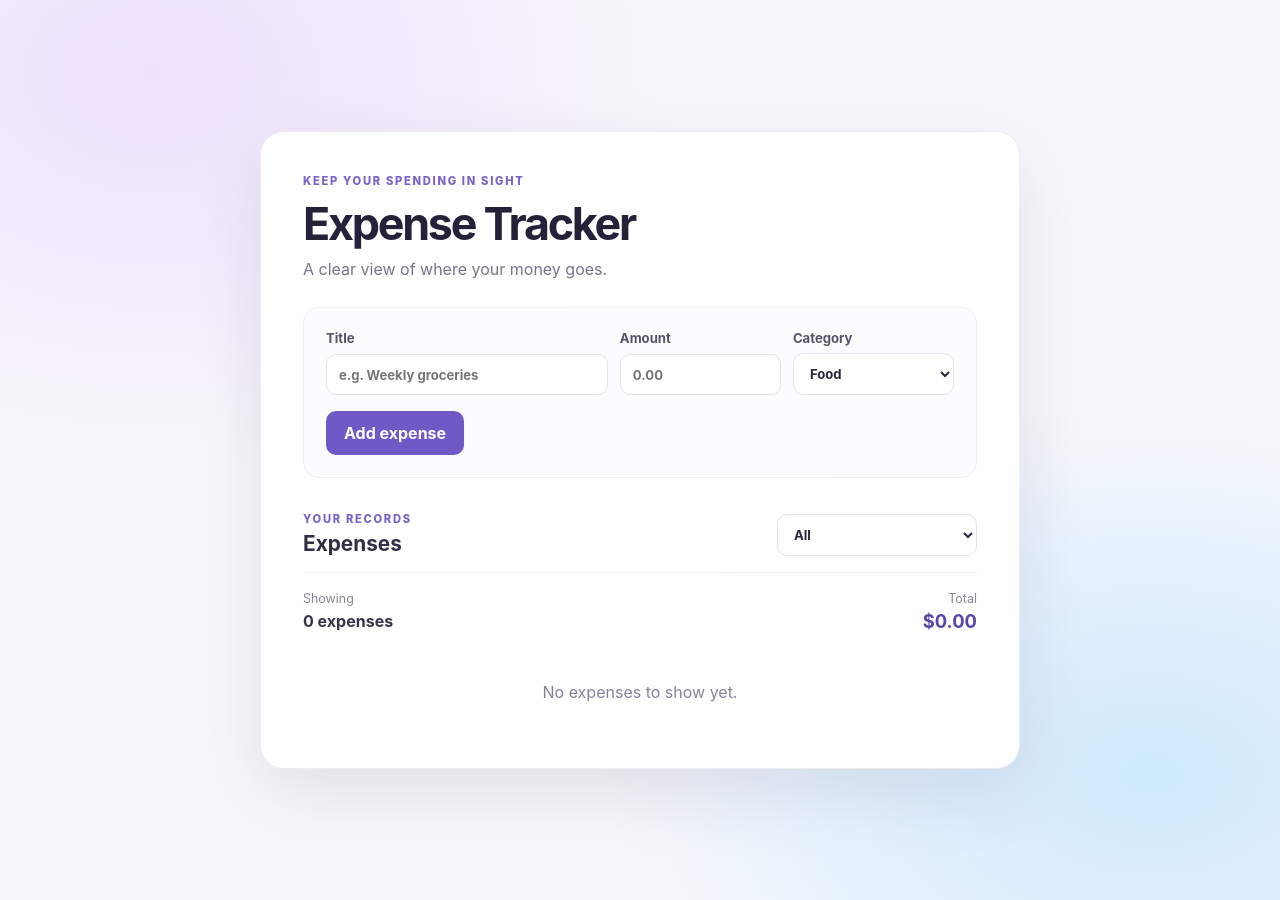
Test: rejects invalid amount not-a-number
Type "Invalid expense" into the field labelled "Title" at coordinates (467, 374), box [326,354,608,395]
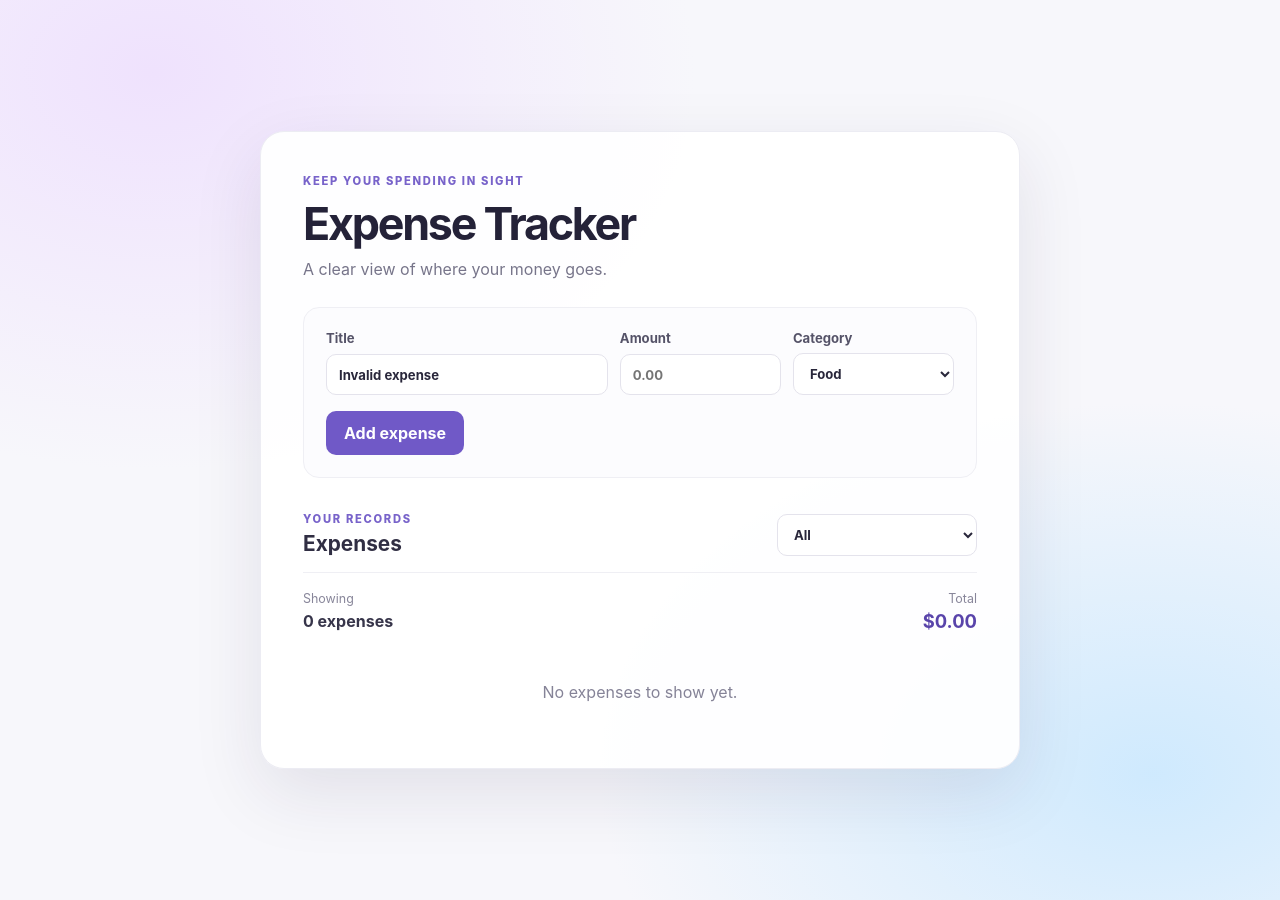
Type "not-a-number" into the field labelled "Amount" at coordinates (700, 374), box [620,354,781,395]
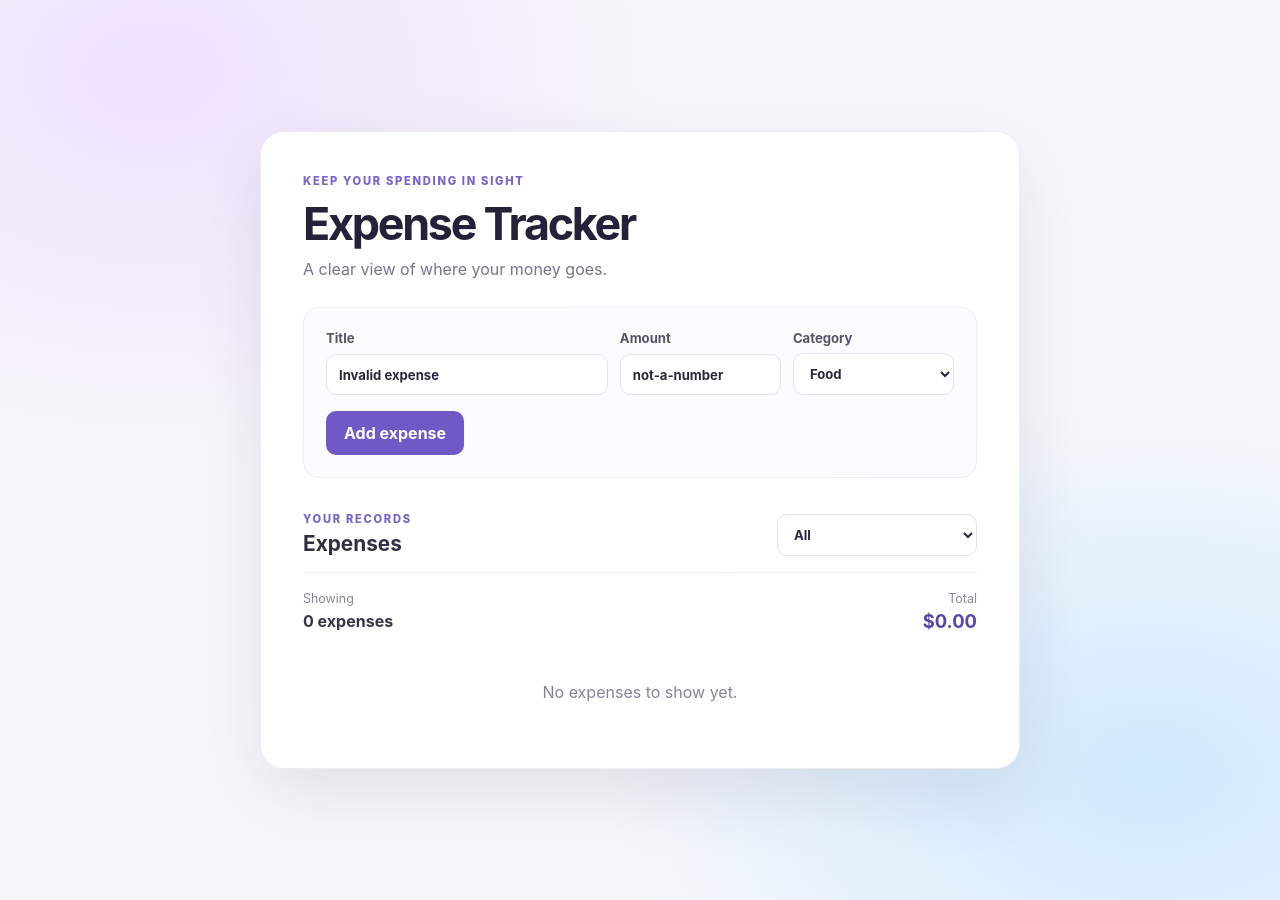
Select "Food" in the dropdown labelled "Category" at coordinates (873, 374), box [793,353,954,395]
Click the button "Add expense" at coordinates (395, 433), box [326,411,464,455]
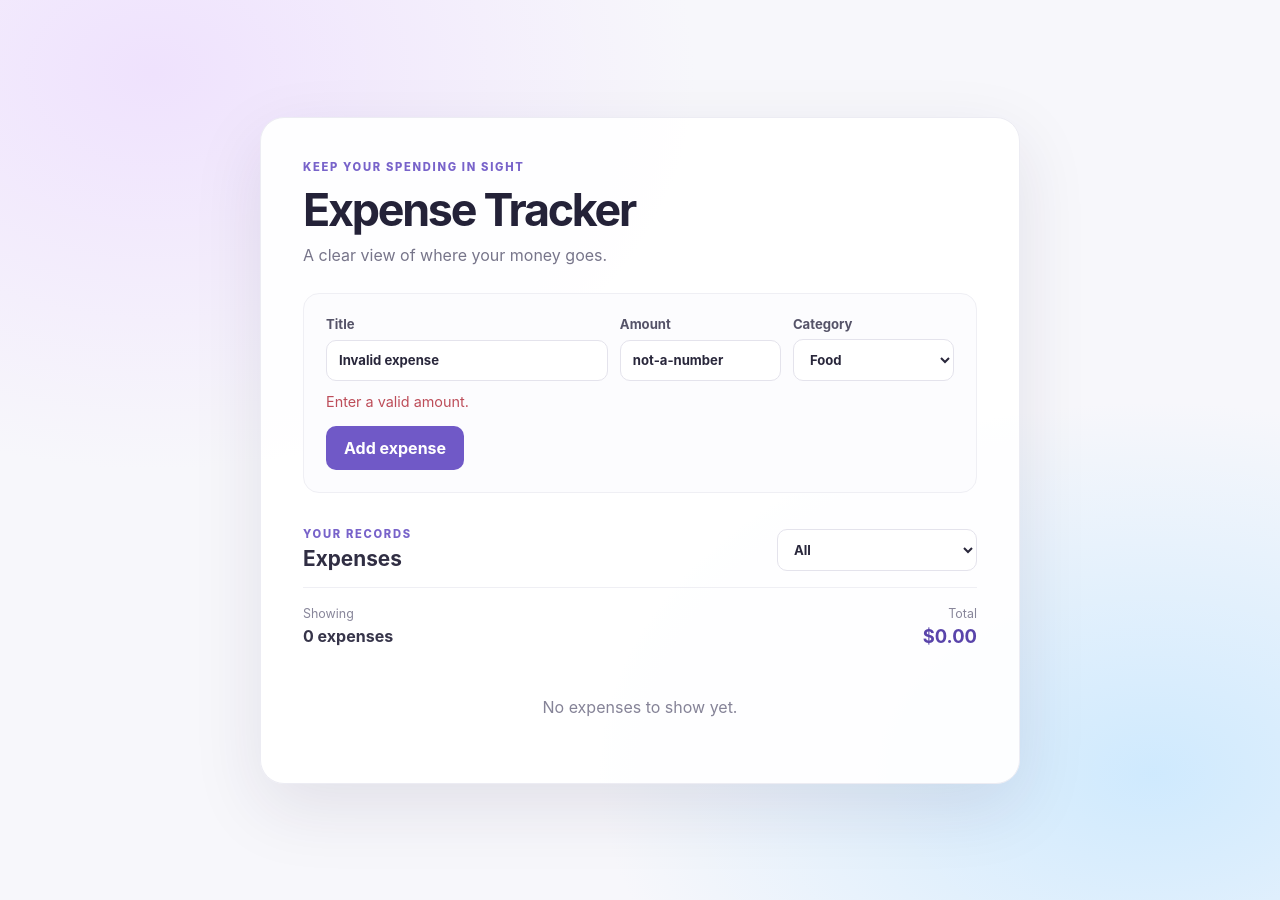
Expected: the message "Enter a valid amount." is shown, [326,392,469,410]
